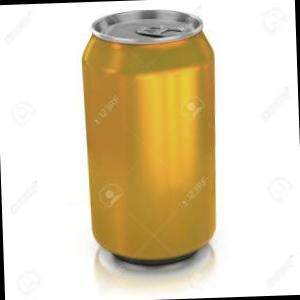metal: (65, 0, 231, 274)
